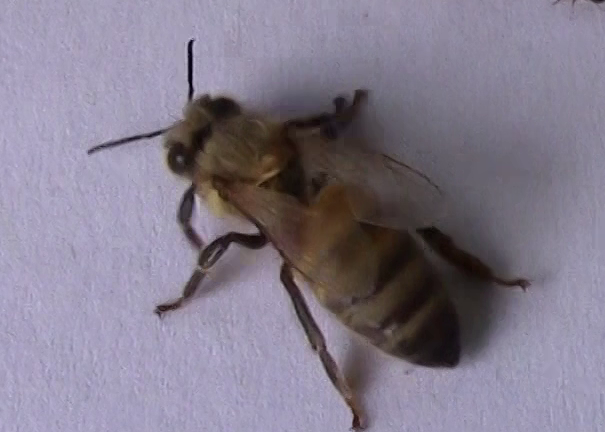Varroa destructor: (290, 223, 306, 259)
